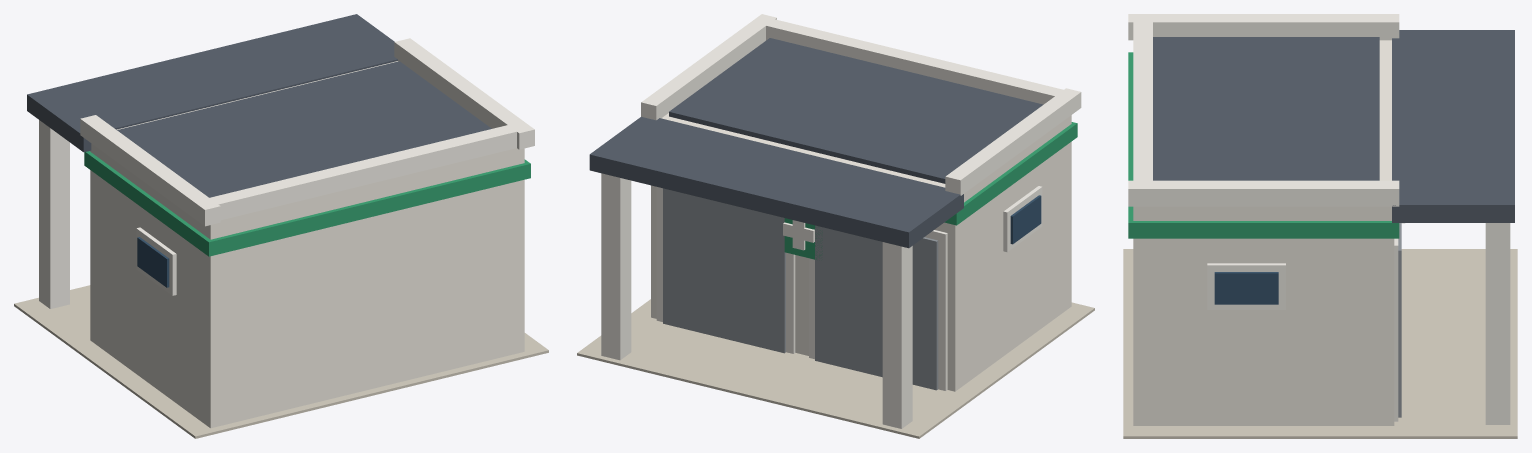
Rendered from annex-ambulanceBay.glb.
The picture shows the model from 3 angles, left to right: view 1: azimuth 30°, elevation 25°; view 2: azimuth 150°, elevation 25°; view 3: azimuth 270°, elevation 25°; orthographic projection. The views are drawn at different scales.
Visible parts, largest first — view 1: building, roof, canopy, parapet (×3), ground, accent_stripe, canopy_post, window_glass, window_frame; view 2: garage_door (×2), roof, building, canopy, ground, parapet (×3), canopy_post (×2), garage_door_frame (×2), accent_stripe, window_glass, window_frame, sign; view 3: building, roof, ground, canopy, parapet (×3), accent_stripe, canopy_post, window_glass, window_frame, garage_door_frame, garage_door.
Boxes of the visible parts, bbox=[...] form: building: bbox=[90, 61, 524, 428]; roof: bbox=[117, 61, 491, 197]; canopy: bbox=[27, 14, 397, 152]; parapet (×3): bbox=[80, 38, 534, 226]; ground: bbox=[14, 285, 548, 438]; accent_stripe: bbox=[84, 151, 530, 256]; canopy_post: bbox=[39, 120, 69, 308]; window_glass: bbox=[137, 237, 169, 287]; window_frame: bbox=[136, 227, 176, 295]; garage_door (×2): bbox=[663, 188, 938, 390]; roof: bbox=[669, 38, 1043, 183]; building: bbox=[651, 113, 1071, 391]; canopy: bbox=[589, 116, 963, 248]; ground: bbox=[577, 299, 1094, 438]; parapet (×3): bbox=[641, 14, 1081, 195]; canopy_post (×2): bbox=[601, 173, 912, 428]; garage_door_frame (×2): bbox=[656, 187, 947, 390]; accent_stripe: bbox=[944, 122, 1077, 225]; window_glass: bbox=[1010, 195, 1041, 244]; window_frame: bbox=[1003, 186, 1042, 251]; sign: bbox=[784, 218, 822, 259]; building: bbox=[1133, 40, 1394, 425]; roof: bbox=[1153, 37, 1379, 180]; ground: bbox=[1123, 249, 1517, 438]; canopy: bbox=[1392, 30, 1514, 222]; parapet (×3): bbox=[1128, 14, 1399, 206]; accent_stripe: bbox=[1128, 52, 1399, 238]; canopy_post: bbox=[1485, 223, 1510, 424]; window_glass: bbox=[1214, 272, 1278, 304]; window_frame: bbox=[1207, 263, 1285, 309]; garage_door_frame: bbox=[1394, 238, 1398, 421]; garage_door: bbox=[1398, 223, 1401, 417].
Bounding box in the file's own units: 9 × 5.46 × 8.
